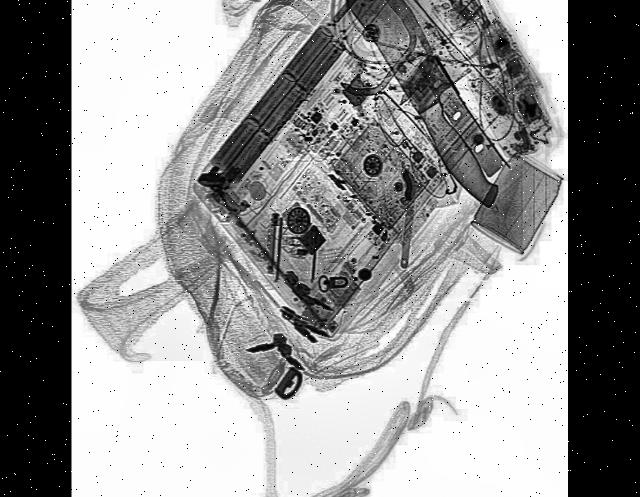Knife: (337, 0, 534, 218)
